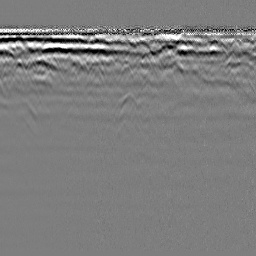cavity: (116, 89, 138, 110)
